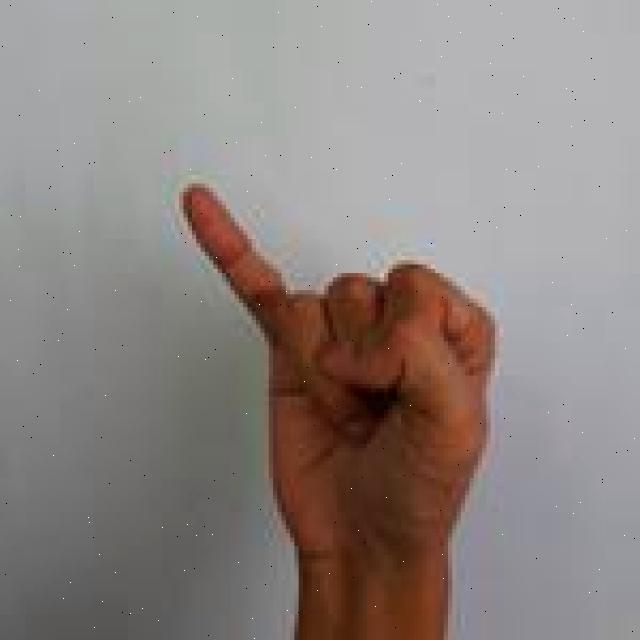I: (177, 175, 506, 640)
